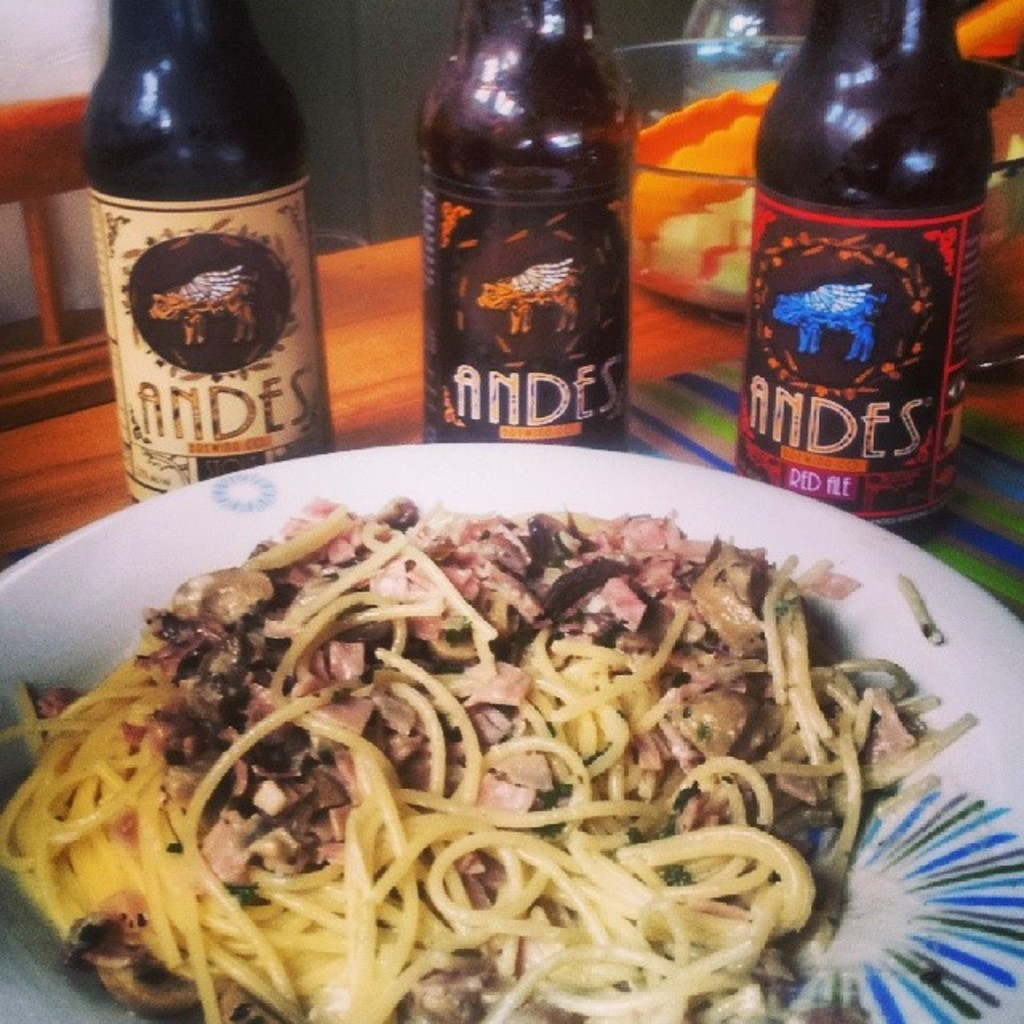pasta: (0, 501, 979, 1022)
